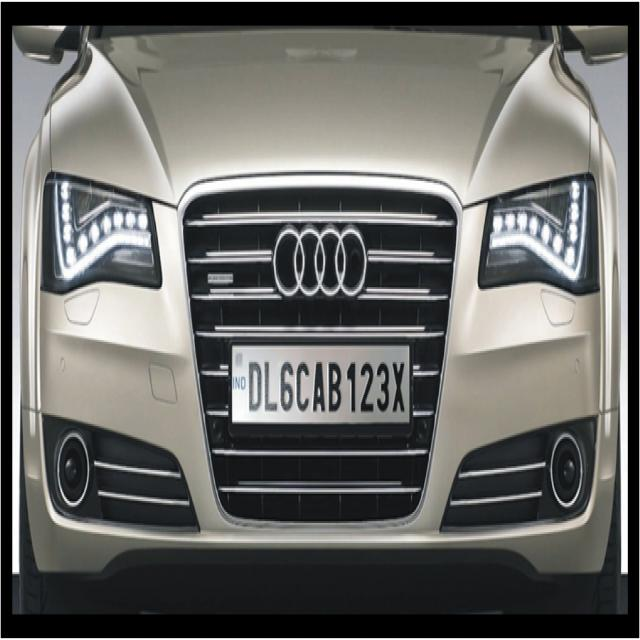license-plate: (231, 338, 408, 421)
